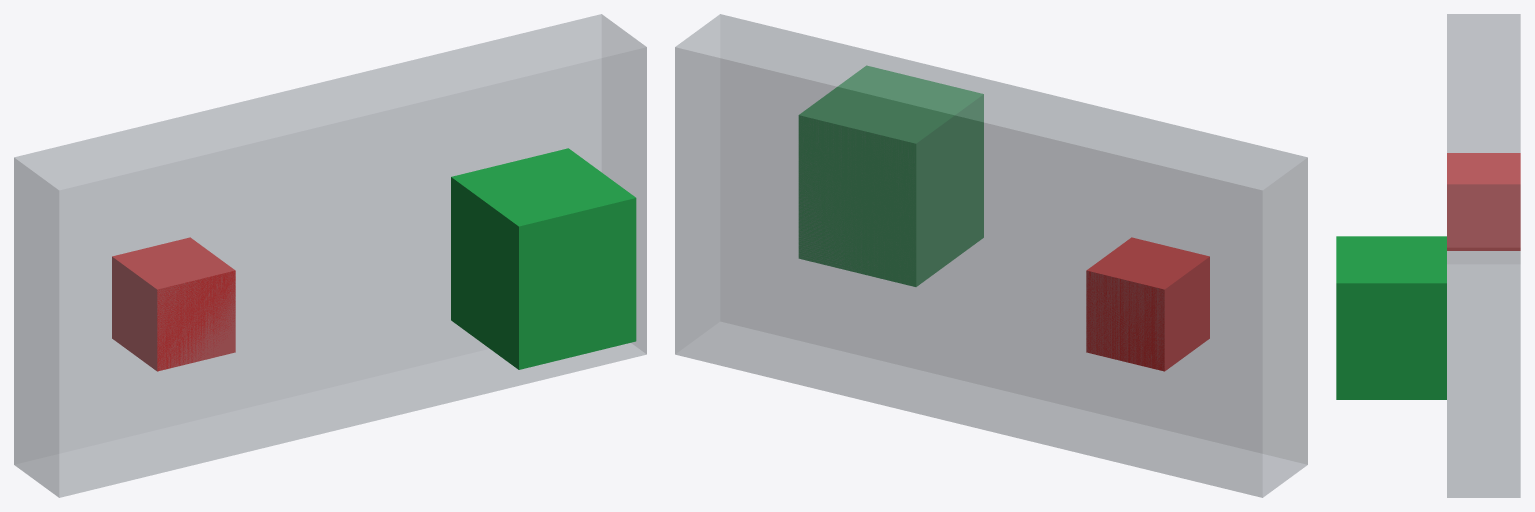
The picture shows the model from 3 angles, left to right: view 1: azimuth 30°, elevation 25°; view 2: azimuth 150°, elevation 25°; view 3: azimuth 270°, elevation 25°; orthographic projection. The views are drawn at different scales.
Parts seen in each view (by area): view 1: Стало 1, Добавлено 1, Убрано 1; view 2: Стало 1, Добавлено 1, Убрано 1; view 3: Стало 1, Добавлено 1, Убрано 1.
Part boxes in pixels (left/top/right/bottom): Стало 1: left=14, top=14, right=646, bottom=497; Добавлено 1: left=451, top=148, right=636, bottom=369; Убрано 1: left=112, top=237, right=235, bottom=371; Стало 1: left=675, top=14, right=1307, bottom=497; Добавлено 1: left=798, top=65, right=983, bottom=286; Убрано 1: left=1086, top=237, right=1209, bottom=371; Стало 1: left=1447, top=14, right=1520, bottom=497; Добавлено 1: left=1336, top=236, right=1446, bottom=399; Убрано 1: left=1447, top=153, right=1520, bottom=250.
Size of the model in its own units: 0.06 by 0.03 by 0.02.
